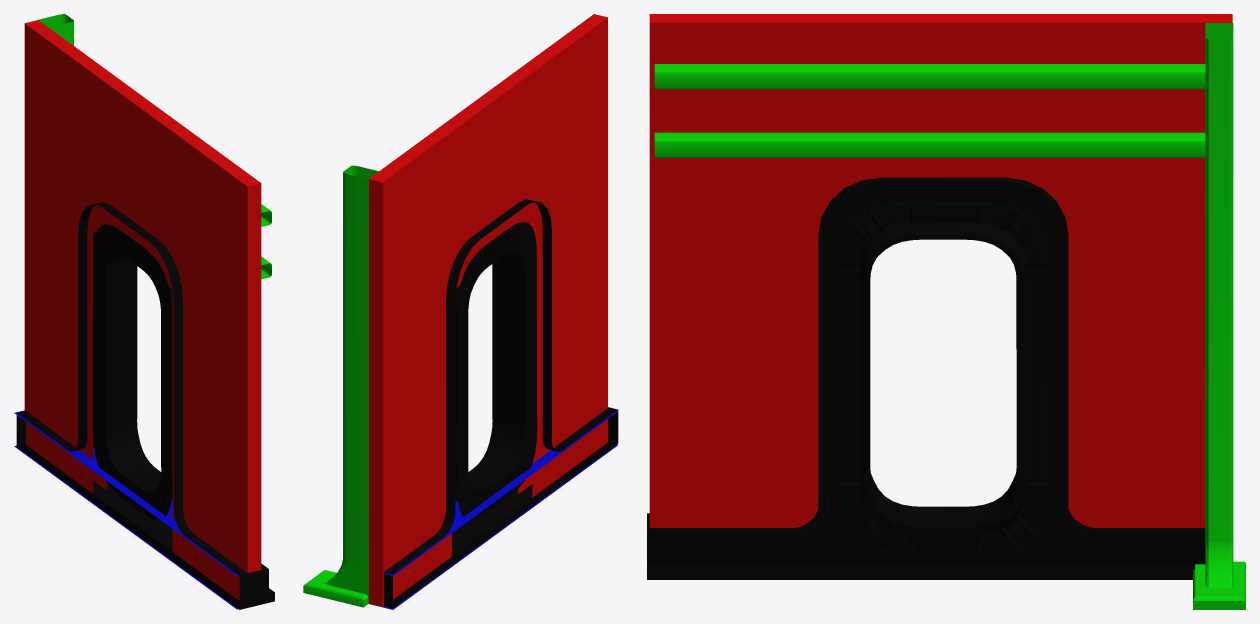
The model's file is FinalFrame.fbx.
The picture shows the model from 3 angles, left to right: view 1: azimuth 30°, elevation 25°; view 2: azimuth 150°, elevation 25°; view 3: azimuth 270°, elevation 25°; orthographic projection. The views are drawn at different scales.
Visible parts, largest first — view 1: WallBlankMod3_3m:pCube4.011; view 2: WallBlankMod3_3m:pCube4.011; view 3: WallBlankMod3_3m:pCube4.011.
Boxes of the visible parts, x1,y1,x2,y2 form: WallBlankMod3_3m:pCube4.011: (14, 14, 274, 609); WallBlankMod3_3m:pCube4.011: (303, 14, 618, 609); WallBlankMod3_3m:pCube4.011: (647, 14, 1245, 609).
Bounding box in the file's own units: 72.64 × 348 × 344.
